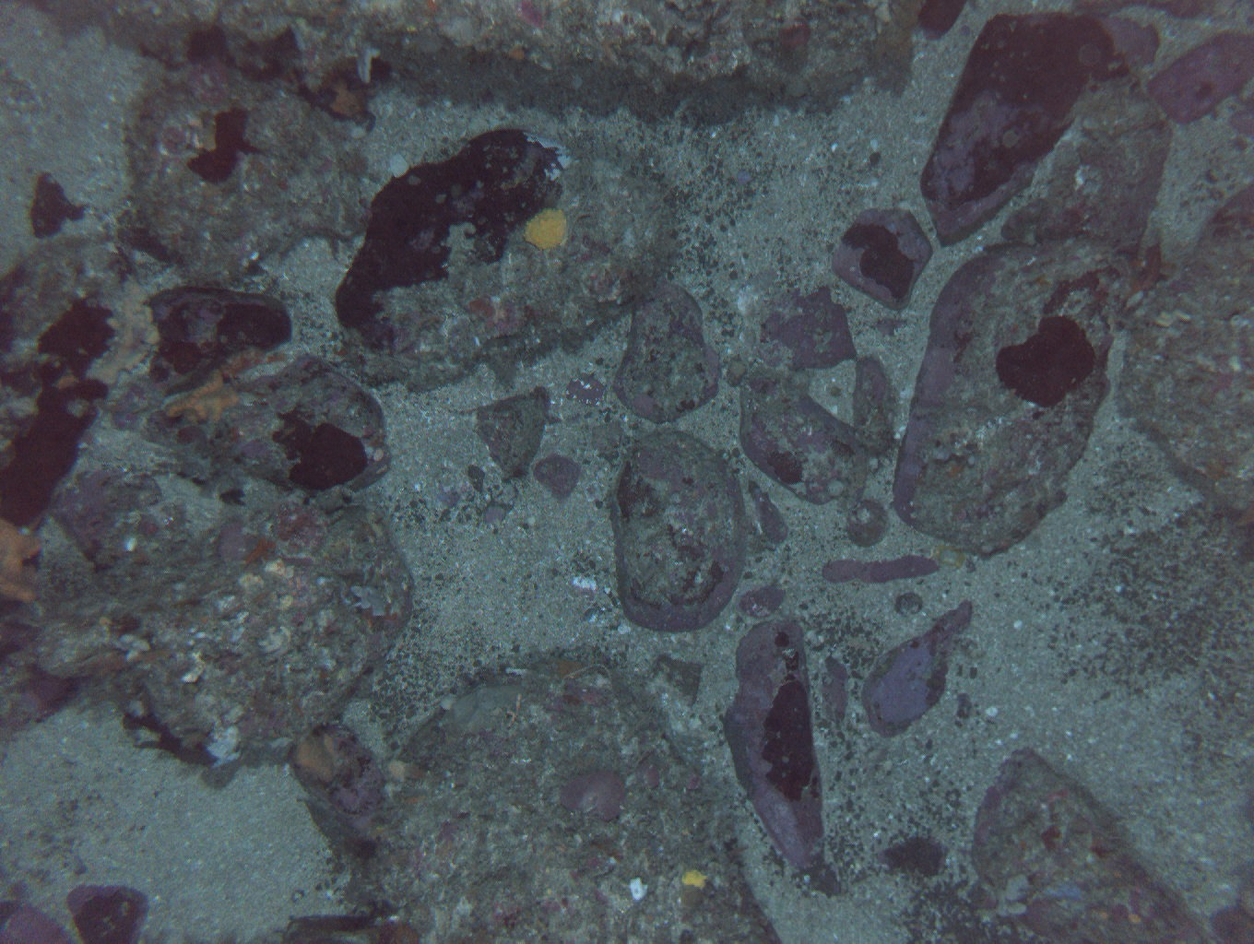Brachionichthyidae: (1128, 241, 1176, 298)
